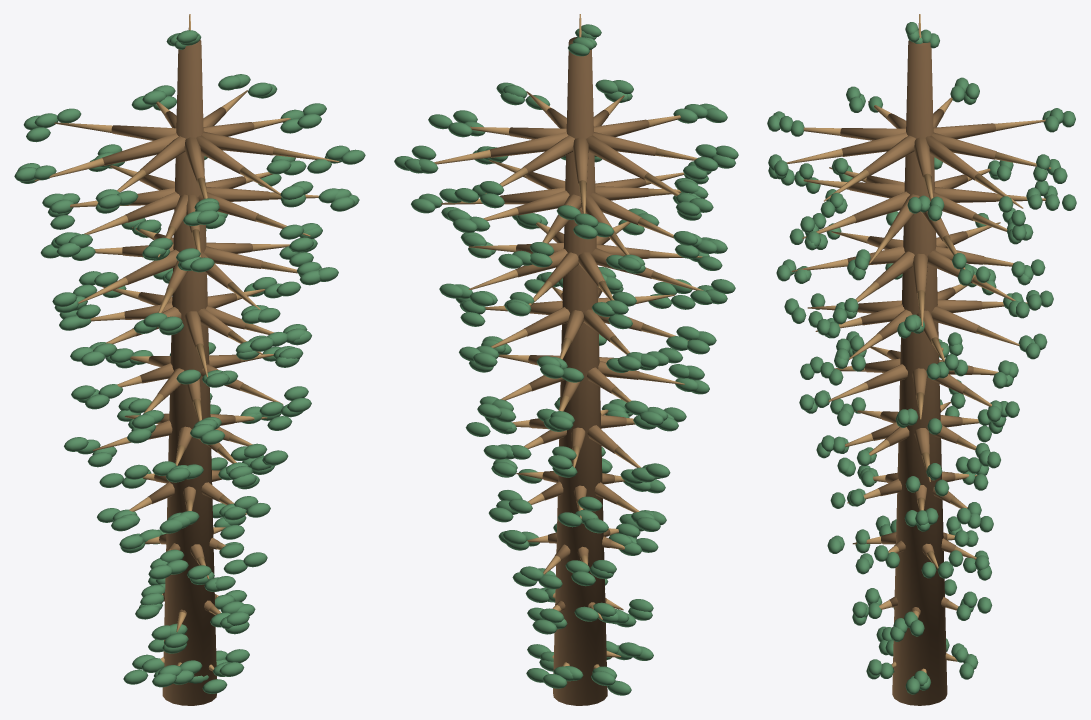
The model's file is conifer_tree_c.glb.
3 renders of one model, left to right at view 1: azimuth 30°, elevation 25°; view 2: azimuth 150°, elevation 25°; view 3: azimuth 270°, elevation 25°, orthographic.
Parts seen in each view (by area): view 1: conifer_tree_c_trunk, conifer_tree_c_branch_0_4_a, conifer_tree_c_branch_0_8_a, conifer_tree_c_branch_0_3_a, conifer_tree_c_branch_1_4_a, conifer_tree_c_branch_2_7_a, conifer_tree_c_branch_2_4_a, conifer_tree_c_branch_1_8_a, conifer_tree_c_branch_0_5_a, conifer_tree_c_branch_0_7_a, conifer_tree_c_branch_1_7_a, conifer_tree_c_branch_0_6_a; view 2: conifer_tree_c_trunk, conifer_tree_c_branch_0_4_a, conifer_tree_c_branch_0_1_a, conifer_tree_c_branch_0_2_a, conifer_tree_c_branch_0_5_a, conifer_tree_c_branch_1_1_a, conifer_tree_c_branch_1_5_a, conifer_tree_c_branch_1_4_a, conifer_tree_c_branch_3_1_a, conifer_tree_c_branch_0_6_a, conifer_tree_c_branch_0_3_a, conifer_tree_c_branch_1_0_a; view 3: conifer_tree_c_trunk, conifer_tree_c_branch_0_1_a, conifer_tree_c_branch_0_8_a, conifer_tree_c_branch_0_7_a, conifer_tree_c_branch_0_2_a, conifer_tree_c_branch_1_7_a, conifer_tree_c_branch_1_2_a, conifer_tree_c_branch_0_3_a, conifer_tree_c_branch_0_6_a, conifer_tree_c_branch_1_6_a, conifer_tree_c_branch_3_1_a, conifer_tree_c_branch_2_7_a (+5 smaller).
Boxes of the visible parts, x1,y1,x2,y2 form: conifer_tree_c_trunk: [162, 40, 216, 705]; conifer_tree_c_branch_0_4_a: [102, 133, 178, 165]; conifer_tree_c_branch_0_8_a: [202, 131, 274, 155]; conifer_tree_c_branch_0_3_a: [111, 125, 176, 140]; conifer_tree_c_branch_1_4_a: [125, 192, 179, 222]; conifer_tree_c_branch_2_7_a: [204, 246, 262, 268]; conifer_tree_c_branch_2_4_a: [123, 249, 179, 284]; conifer_tree_c_branch_1_8_a: [206, 186, 269, 201]; conifer_tree_c_branch_0_5_a: [140, 136, 185, 176]; conifer_tree_c_branch_0_7_a: [196, 135, 244, 173]; conifer_tree_c_branch_1_7_a: [198, 192, 258, 221]; conifer_tree_c_branch_0_6_a: [184, 137, 205, 182]; conifer_tree_c_trunk: [553, 37, 607, 705]; conifer_tree_c_branch_0_4_a: [586, 135, 648, 179]; conifer_tree_c_branch_0_1_a: [489, 132, 568, 157]; conifer_tree_c_branch_0_2_a: [523, 135, 574, 174]; conifer_tree_c_branch_0_5_a: [593, 132, 656, 155]; conifer_tree_c_branch_1_1_a: [515, 190, 569, 215]; conifer_tree_c_branch_1_5_a: [595, 186, 649, 200]; conifer_tree_c_branch_1_4_a: [590, 192, 641, 225]; conifer_tree_c_branch_3_1_a: [524, 307, 569, 336]; conifer_tree_c_branch_0_6_a: [594, 119, 649, 136]; conifer_tree_c_branch_0_3_a: [572, 137, 588, 184]; conifer_tree_c_branch_1_0_a: [500, 187, 565, 204]; conifer_tree_c_trunk: [892, 40, 947, 705]; conifer_tree_c_branch_0_1_a: [925, 135, 979, 180]; conifer_tree_c_branch_0_8_a: [863, 135, 915, 176]; conifer_tree_c_branch_0_7_a: [841, 132, 907, 156]; conifer_tree_c_branch_0_2_a: [931, 132, 996, 159]; conifer_tree_c_branch_1_7_a: [852, 191, 909, 223]; conifer_tree_c_branch_1_2_a: [934, 187, 996, 202]; conifer_tree_c_branch_0_3_a: [933, 123, 995, 139]; conifer_tree_c_branch_0_6_a: [840, 128, 905, 140]; conifer_tree_c_branch_1_6_a: [848, 182, 904, 198]; conifer_tree_c_branch_3_1_a: [931, 306, 979, 333]; conifer_tree_c_branch_2_7_a: [873, 251, 914, 288].
Size of the model in its own units: 2.74 by 5.99 by 2.47.
